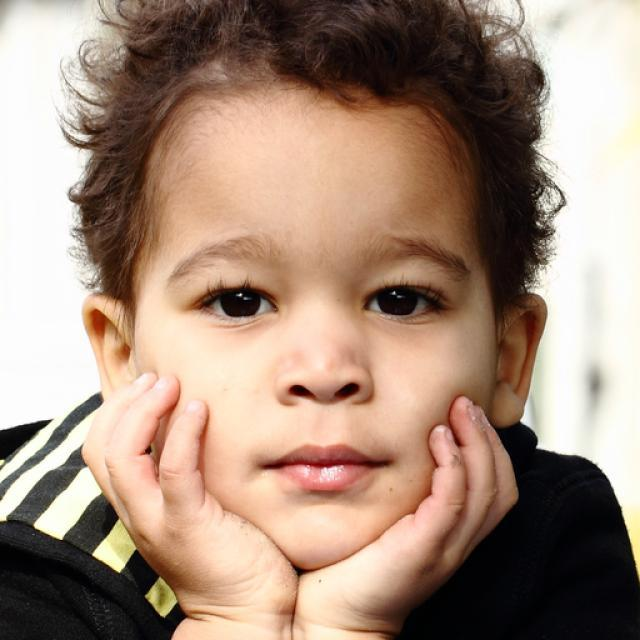neutral: (128, 77, 496, 575)
